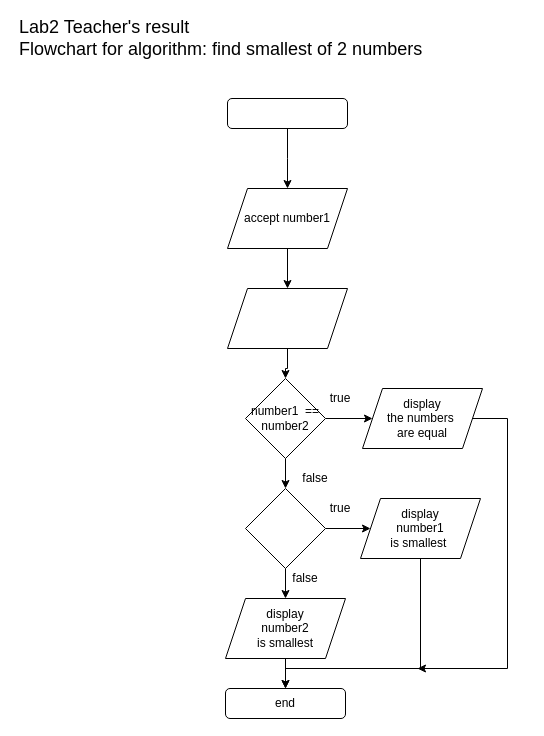
Some shapes in this 544 by 736 pixel diagram are drawn without their labels. The shapes that lost their labels are listed below. From the top down, each one's box as (x1, y1, x2, y2) in pixels, then its label:
(226, 98, 348, 128): start
(226, 288, 348, 348): accept number2
(244, 488, 326, 568): number1 < number2
